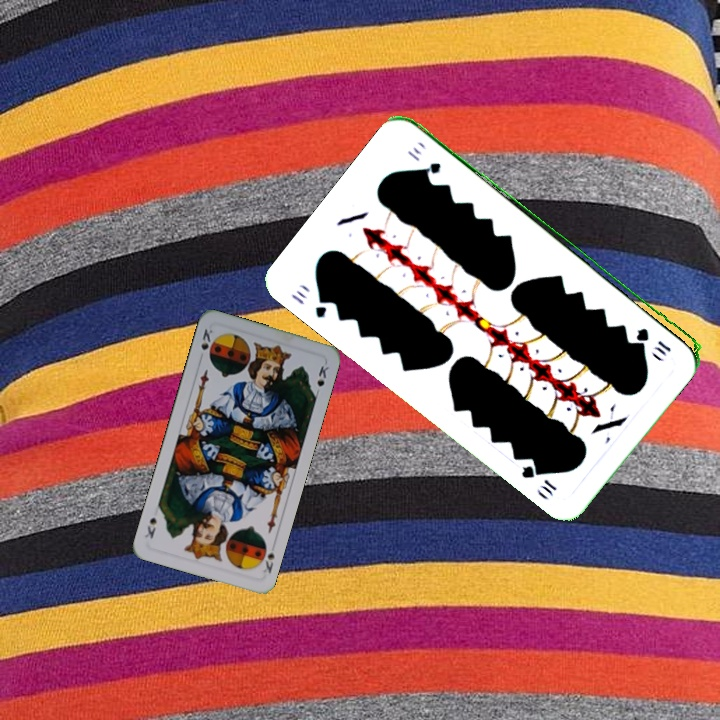G10: (287, 286, 335, 321), (633, 323, 674, 359)
SK: (195, 325, 215, 363), (257, 548, 277, 576)
